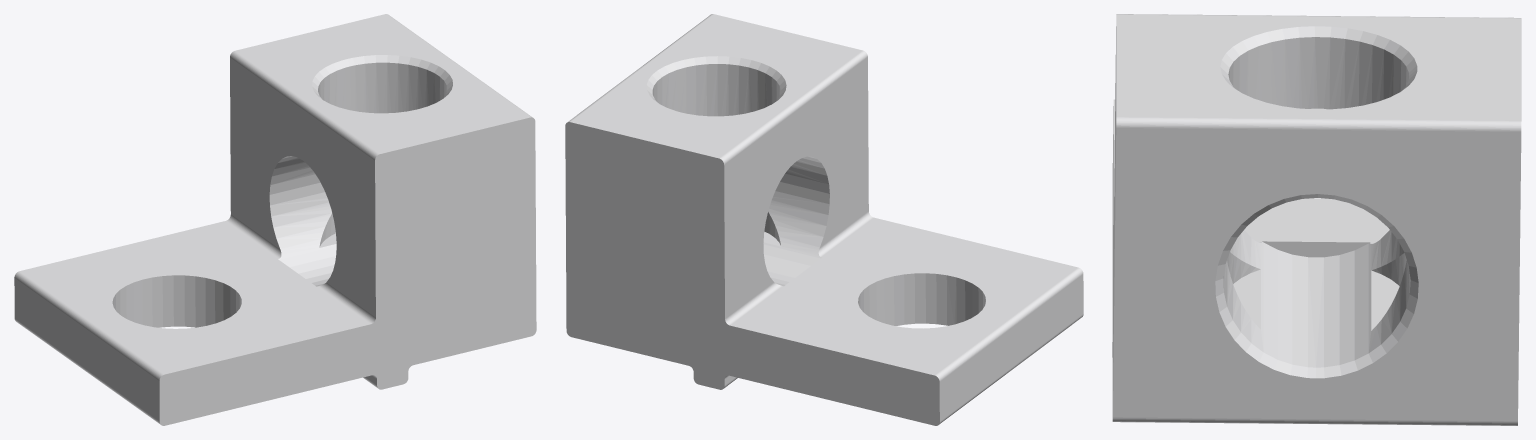
3 views of the same model, side by side, from view 1: azimuth 30°, elevation 25°; view 2: azimuth 150°, elevation 25°; view 3: azimuth 270°, elevation 25° (orthographic). The views are drawn at different scales.
Visible parts, largest first — view 1: MTS-LUG-0002 - S2-0-TP-W-44-49-HEX; view 2: MTS-LUG-0002 - S2-0-TP-W-44-49-HEX; view 3: MTS-LUG-0002 - S2-0-TP-W-44-49-HEX.
Boxes of the visible parts, bbox=[...] form: MTS-LUG-0002 - S2-0-TP-W-44-49-HEX: bbox=[14, 14, 536, 425]; MTS-LUG-0002 - S2-0-TP-W-44-49-HEX: bbox=[565, 14, 1083, 425]; MTS-LUG-0002 - S2-0-TP-W-44-49-HEX: bbox=[1112, 14, 1521, 425].
Bounding box in the file's own units: 25.91 × 15.6 × 17.44.
Materials: 1 (1 with a texture image).
